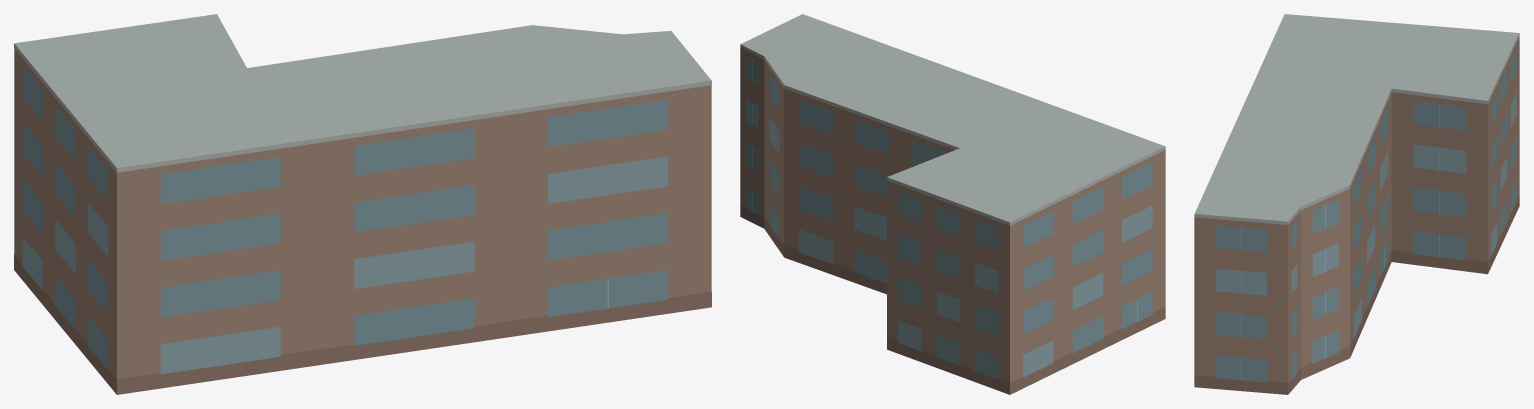
File: survey-upis-33042594.glb
3 renders of one model, left to right at view 1: azimuth 30°, elevation 25°; view 2: azimuth 150°, elevation 25°; view 3: azimuth 270°, elevation 25°, orthographic. The views are drawn at different scales.
Visible parts, largest first — view 1: survey-upis-33042594.tmp; view 2: survey-upis-33042594.tmp; view 3: survey-upis-33042594.tmp.
Part boxes in pixels (x1=…): survey-upis-33042594.tmp: x1=14, y1=14, x2=711, y2=394; survey-upis-33042594.tmp: x1=740, y1=14, x2=1165, y2=394; survey-upis-33042594.tmp: x1=1194, y1=14, x2=1519, y2=394.
Size of the model in its own units: 31.35 by 12.2 by 20.75.
